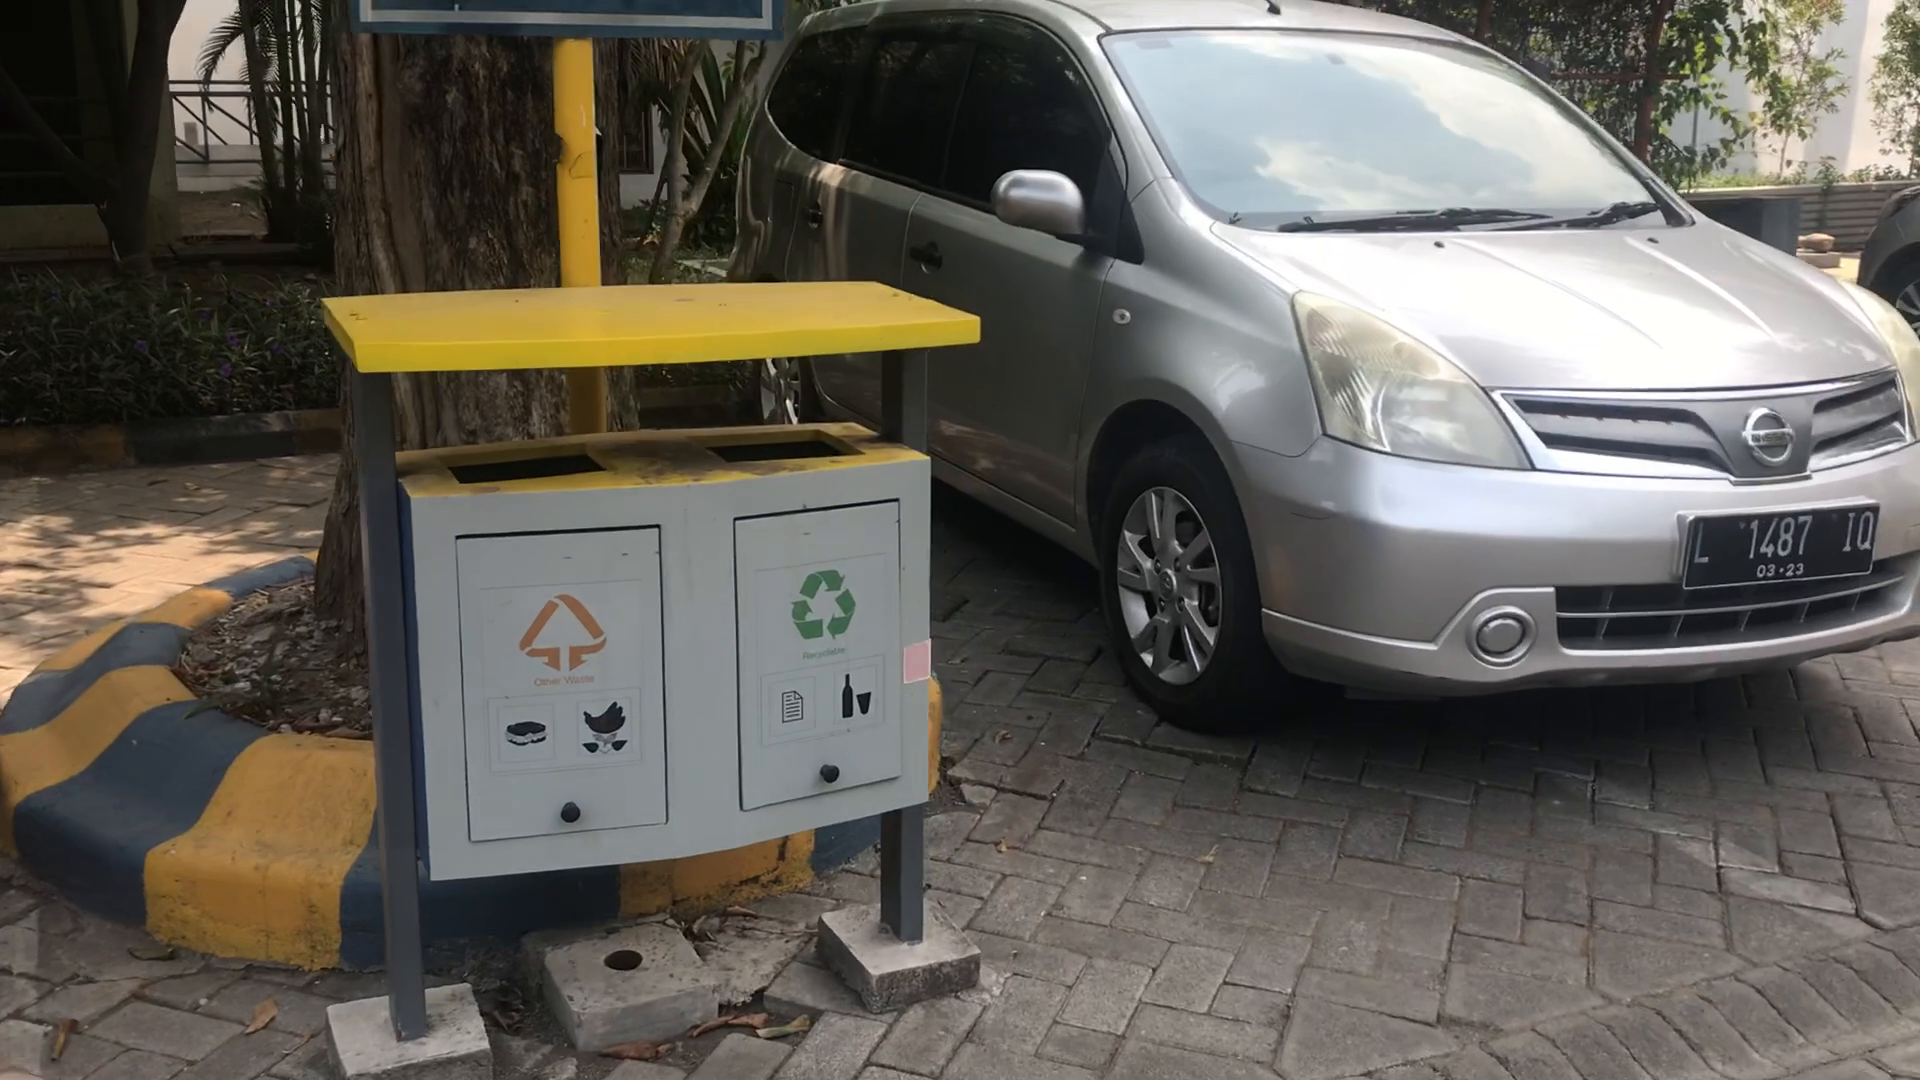plate: (1682, 510, 1877, 577)
